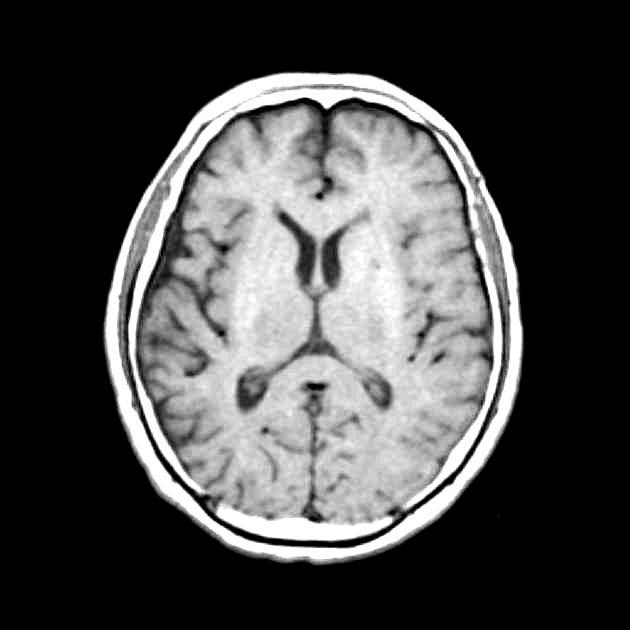Normal_Brain: (5, 1, 630, 630)
